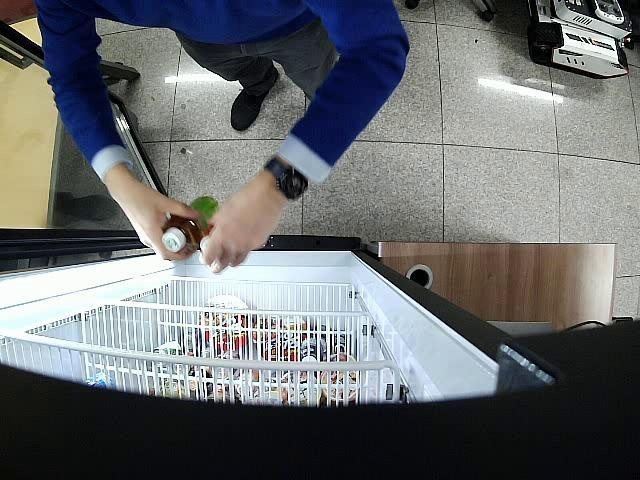19_17cha: (162, 196, 219, 252)
